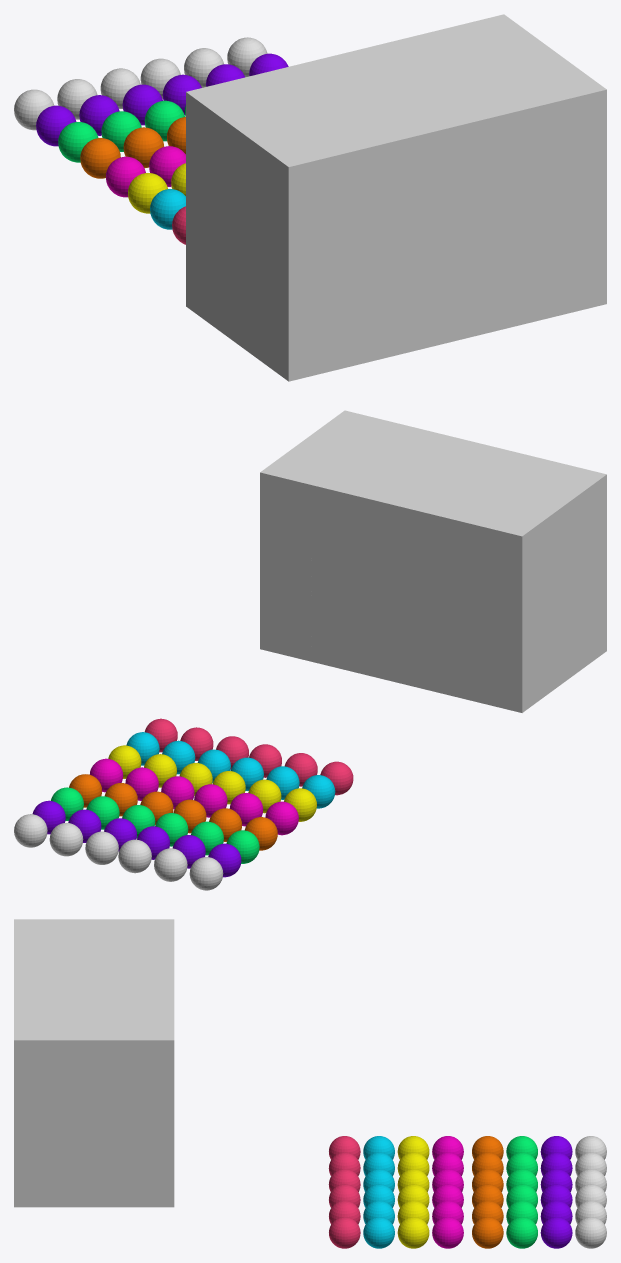
3 renders of one model, top to bottom at view 1: azimuth 30°, elevation 25°; view 2: azimuth 150°, elevation 25°; view 3: azimuth 270°, elevation 25°, orthographic. The views are drawn at different scales.
Visible parts, largest first — view 1: Cube, Sphere.009, Sphere.011, Sphere.002, Sphere.003, Sphere.008, Sphere.045, Sphere.044, Sphere.039, Sphere.006, Sphere.001, Sphere.047 (+11 smaller); view 2: Cube, Sphere.019, Sphere.005, Sphere.004, Sphere.003, Sphere.020, Sphere.018, Sphere.044, Sphere.043, Sphere.029, Sphere.028, Sphere.042 (+31 smaller); view 3: Cube, Sphere.025, Sphere.013, Sphere.016, Sphere.022, Sphere.034, Sphere.019, Sphere.028, Sphere.031, Sphere.045, Sphere.012, Sphere.029 (+37 smaller).
Part boxes in pixels (<box>): Cube: <box>186,14,606,381</box>; Sphere.009: <box>80,138,120,178</box>; Sphere.011: <box>123,127,163,168</box>; Sphere.002: <box>36,105,76,146</box>; Sphere.003: <box>14,89,54,130</box>; Sphere.008: <box>58,122,98,162</box>; Sphere.045: <box>128,173,167,213</box>; Sphere.044: <box>105,156,145,197</box>; Sphere.039: <box>150,189,185,229</box>; Sphere.006: <box>101,111,141,151</box>; Sphere.001: <box>122,84,162,125</box>; Sphere.047: <box>79,95,119,135</box>; Cube: <box>260,410,606,712</box>; Sphere.019: <box>14,814,47,847</box>; Sphere.005: <box>154,848,187,881</box>; Sphere.004: <box>118,839,151,873</box>; Sphere.003: <box>189,857,223,890</box>; Sphere.020: <box>85,831,118,864</box>; Sphere.018: <box>49,823,83,856</box>; Sphere.044: <box>265,801,298,835</box>; Sphere.043: <box>194,784,227,817</box>; Sphere.029: <box>125,767,158,800</box>; Sphere.028: <box>89,758,123,792</box>; Sphere.042: <box>229,793,263,826</box>; Cube: <box>14,919,174,1207</box>; Sphere.025: <box>397,1217,429,1248</box>; Sphere.013: <box>472,1217,503,1248</box>; Sphere.016: <box>506,1217,537,1248</box>; Sphere.022: <box>540,1217,572,1248</box>; Sphere.034: <box>329,1217,360,1248</box>; Sphere.019: <box>575,1217,606,1248</box>; Sphere.028: <box>432,1217,463,1248</box>; Sphere.031: <box>363,1217,394,1248</box>; Sphere.045: <box>397,1136,429,1159</box>; Sphere.012: <box>472,1200,503,1224</box>; Sphere.029: <box>432,1200,463,1224</box>.
Bounding box in the file's own units: 19.61 × 14.08 × 37.28.
